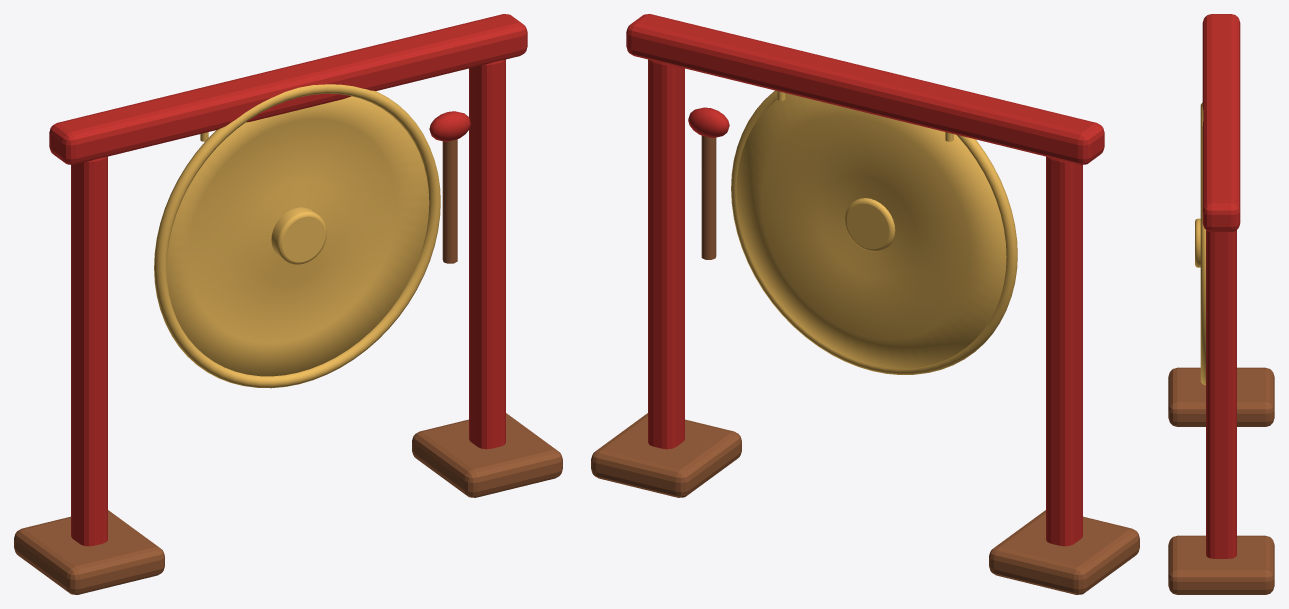
File: stage-gong.glb
The picture shows the model from 3 angles, left to right: view 1: azimuth 30°, elevation 25°; view 2: azimuth 150°, elevation 25°; view 3: azimuth 270°, elevation 25°; orthographic projection. The views are drawn at different scales.
Parts seen in each view (by area): view 1: stage-gong; view 2: stage-gong; view 3: stage-gong.
Boxes of the visible parts, x1,y1,x2,y2 form: stage-gong: (14, 14, 562, 594); stage-gong: (591, 14, 1139, 594); stage-gong: (1168, 14, 1274, 594).
Bounding box in the file's own units: 2.24 × 1.92 × 0.48.
